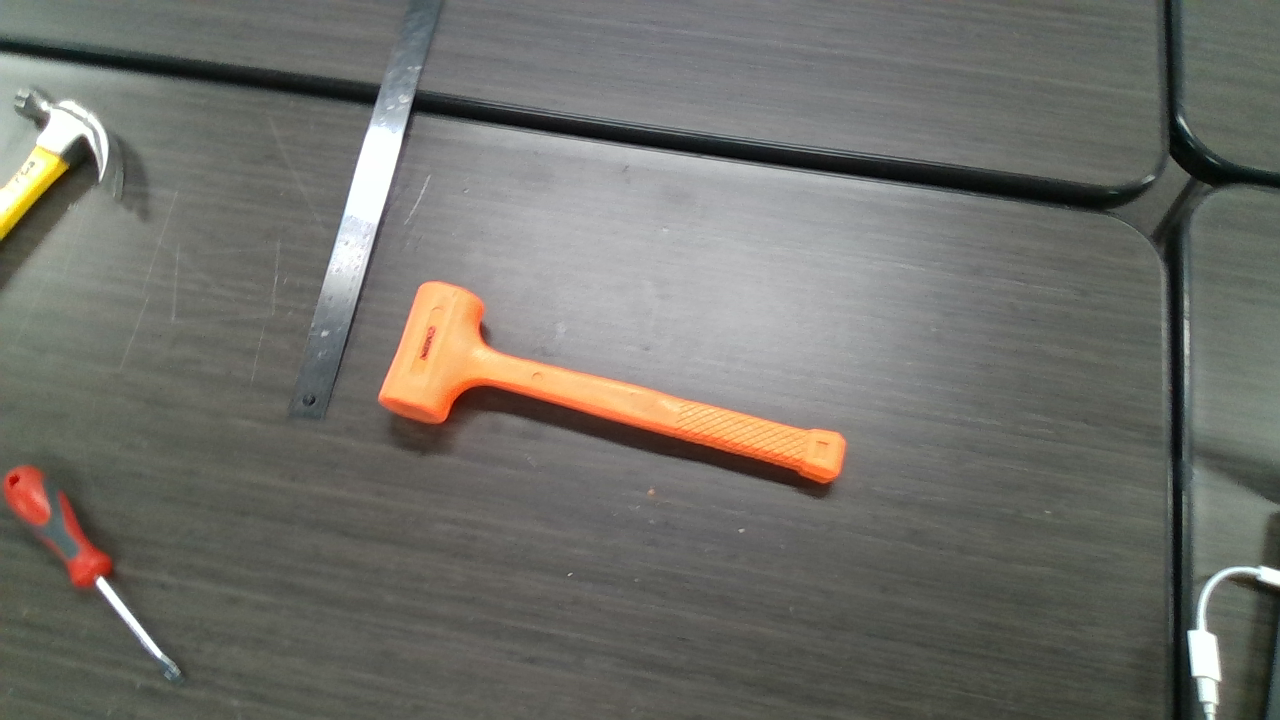Orange Hammer: (388, 278, 850, 484)
